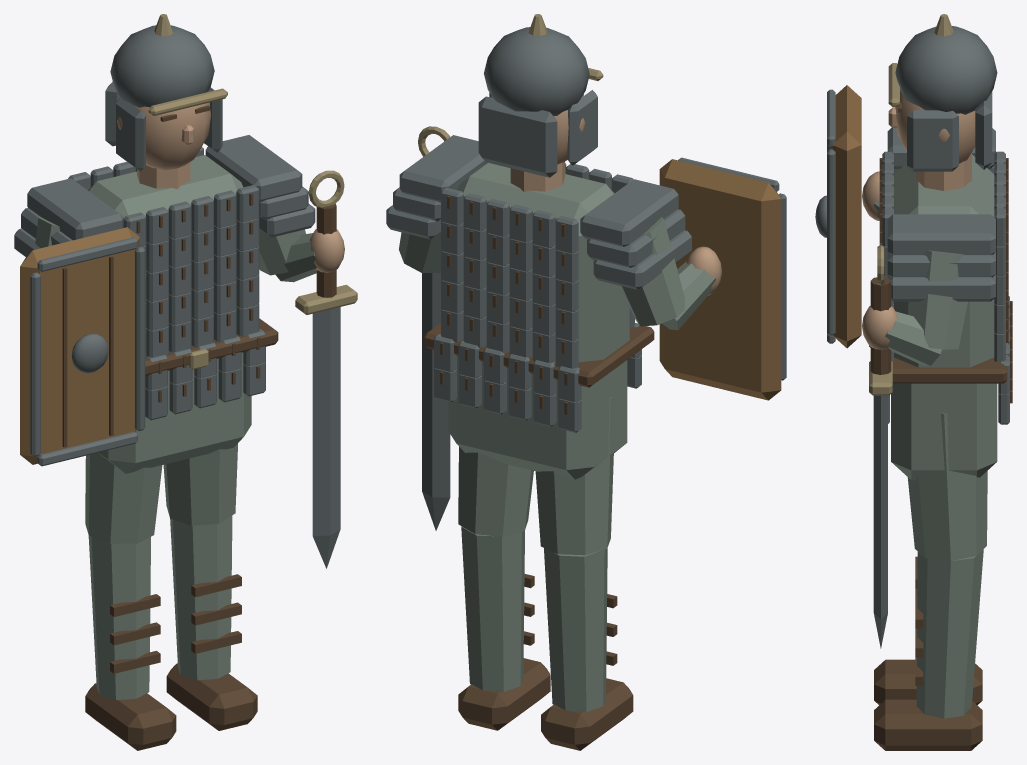
The model's file is han-swordsman.glb.
3 views of the same model, side by side, from view 1: azimuth 30°, elevation 25°; view 2: azimuth 150°, elevation 25°; view 3: azimuth 270°, elevation 25° (orthographic).
Parts seen in each view (by area): view 1: iron-lamellar, linen-tunic, spear-wood, leather, skin, worn-bronze; view 2: iron-lamellar, linen-tunic, spear-wood, leather, skin, worn-bronze; view 3: linen-tunic, iron-lamellar, leather, spear-wood, skin, worn-bronze.
Boxes of the visible parts, x1=… form: iron-lamellar: x1=14, y1=25, x2=340, y2=568; linen-tunic: x1=35, y1=155, x2=316, y2=699; spear-wood: x1=20, y1=227, x2=139, y2=464; leather: x1=62, y1=105, x2=336, y2=750; skin: x1=117, y1=102, x2=344, y2=272; worn-bronze: x1=148, y1=14, x2=357, y2=369; iron-lamellar: x1=386, y1=27, x2=786, y2=530; linen-tunic: x1=399, y1=162, x2=715, y2=712; spear-wood: x1=659, y1=159, x2=781, y2=400; leather: x1=423, y1=196, x2=654, y2=750; skin: x1=510, y1=94, x2=721, y2=295; worn-bronze: x1=418, y1=14, x2=603, y2=156; linen-tunic: x1=874, y1=154, x2=997, y2=718; iron-lamellar: x1=815, y1=26, x2=1009, y2=648; leather: x1=829, y1=102, x2=1012, y2=750; spear-wood: x1=832, y1=85, x2=861, y2=348; skin: x1=862, y1=90, x2=975, y2=349; worn-bronze: x1=869, y1=14, x2=953, y2=395.
Size of the model in its own units: 0.905 by 1.73 by 0.4365.
